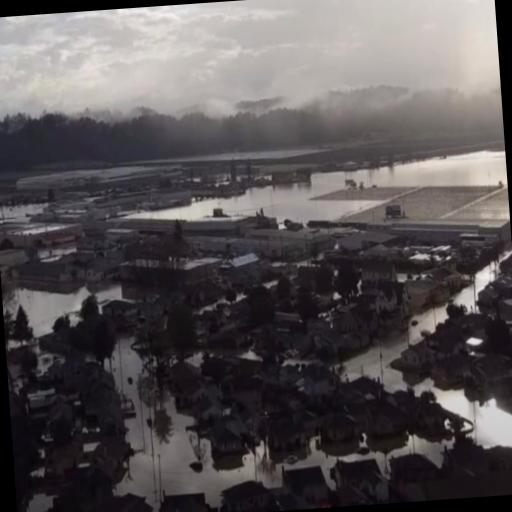flood: (128, 150, 508, 222), (152, 397, 282, 507), (105, 333, 159, 507), (413, 376, 512, 448), (9, 282, 122, 337), (284, 438, 367, 484), (369, 436, 452, 475), (454, 263, 498, 312), (382, 333, 409, 392), (410, 305, 448, 344), (344, 340, 381, 380), (401, 436, 448, 463)
house: (116, 254, 220, 294), (166, 359, 216, 413), (332, 456, 388, 504), (263, 407, 317, 456), (7, 256, 83, 290), (278, 464, 330, 510), (370, 278, 412, 326), (388, 448, 438, 488), (219, 477, 272, 512), (209, 412, 248, 456), (368, 399, 404, 444), (473, 269, 512, 310), (320, 406, 360, 444), (90, 431, 128, 471), (356, 258, 396, 289), (158, 487, 207, 512), (397, 337, 434, 370), (226, 250, 262, 282), (117, 493, 156, 512), (338, 304, 362, 334)
